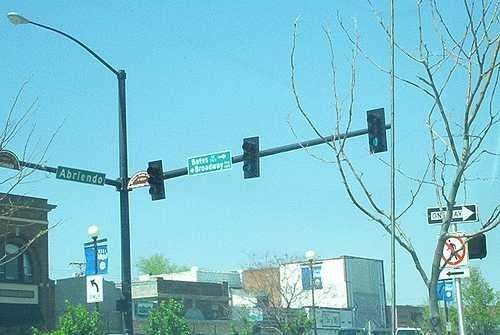green: (364, 105, 387, 156)
